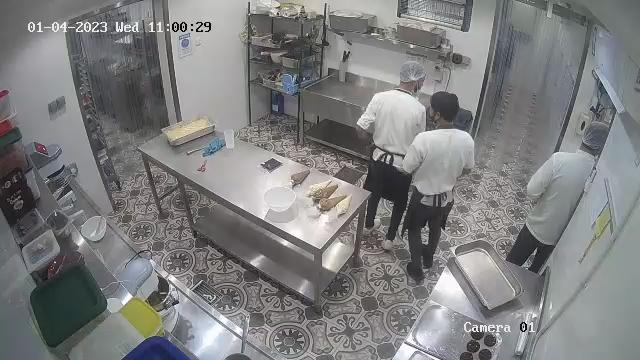apron: (372, 142, 415, 173), (418, 181, 455, 202)
